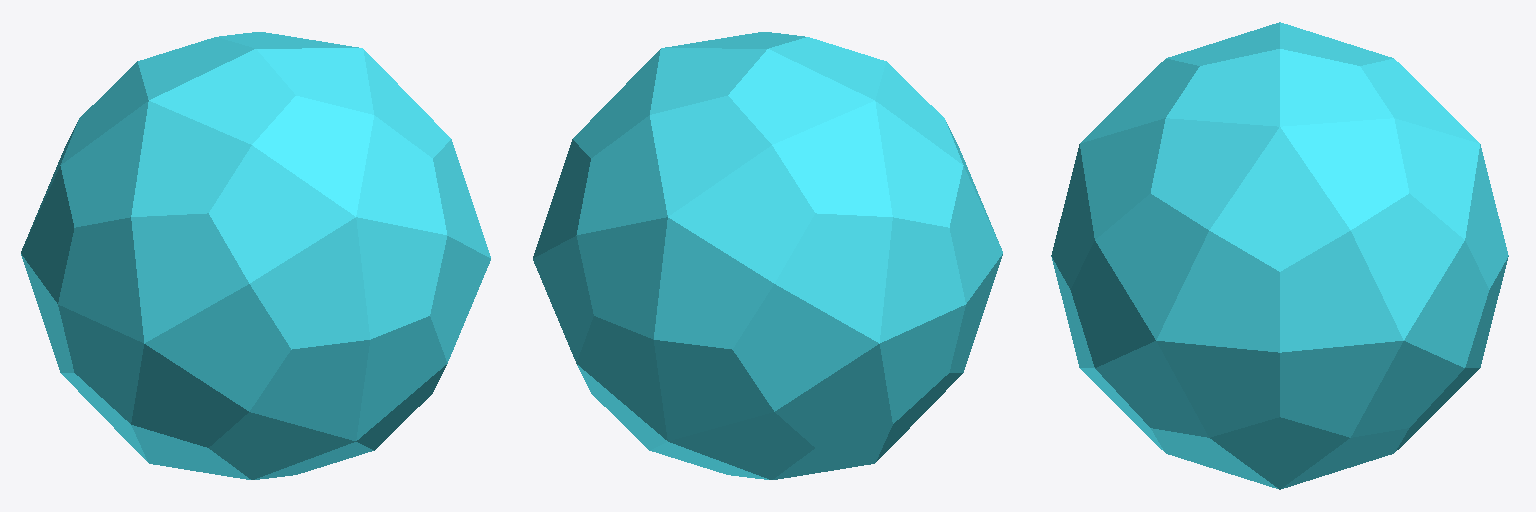
3 renders of one model, left to right at view 1: azimuth 30°, elevation 25°; view 2: azimuth 150°, elevation 25°; view 3: azimuth 270°, elevation 25°, orthographic.
Parts seen in each view (by area): view 1: Solid; view 2: Solid; view 3: Solid.
Part boxes in pixels (bbox=[...]): Solid: bbox=[21, 32, 490, 479]; Solid: bbox=[533, 32, 1002, 479]; Solid: bbox=[1051, 22, 1508, 489].
Bounding box in the file's own units: 1.62 × 1.62 × 1.62.
1 materials, 1 textured.